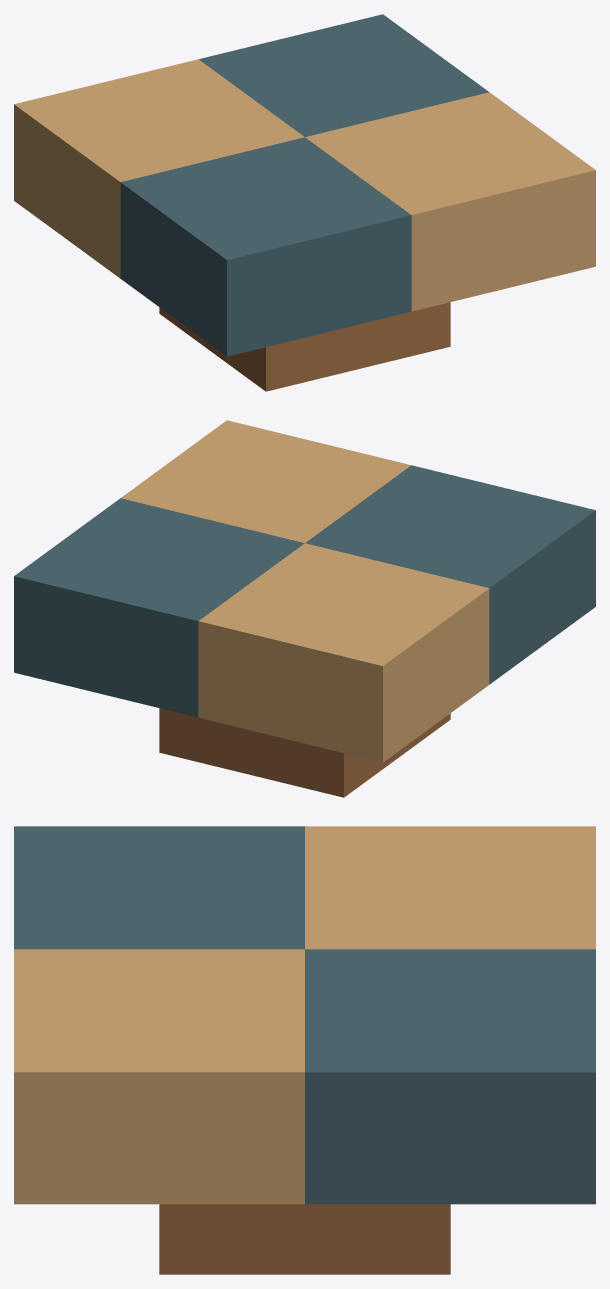
File: workshop.bridge.B.deck.palette.glb
3 views of the same model, one above another, from view 1: azimuth 30°, elevation 25°; view 2: azimuth 150°, elevation 25°; view 3: azimuth 270°, elevation 25° (orthographic). The views are drawn at different scales.
Parts seen in each view (by area): view 1: VW.walk.quarter.0.002, VW.walk.quarter.1.002, VW.walk.quarter.0.003, VW.walk.quarter.1.003, VW.inset.plinth.001; view 2: VW.walk.quarter.0.003, VW.walk.quarter.1.003, VW.walk.quarter.0.002, VW.walk.quarter.1.002, VW.inset.plinth.001; view 3: VW.walk.quarter.1.002, VW.walk.quarter.1.003, VW.walk.quarter.0.002, VW.walk.quarter.0.003, VW.inset.plinth.001.
Boxes of the visible parts, <box> form: VW.walk.quarter.0.002: <box>120,137,411,356</box>; VW.walk.quarter.1.002: <box>305,92,595,311</box>; VW.walk.quarter.0.003: <box>14,59,304,278</box>; VW.walk.quarter.1.003: <box>199,14,488,136</box>; VW.inset.plinth.001: <box>159,302,450,391</box>; VW.walk.quarter.0.003: <box>198,543,489,762</box>; VW.walk.quarter.1.003: <box>14,498,304,717</box>; VW.walk.quarter.0.002: <box>305,465,595,684</box>; VW.walk.quarter.1.002: <box>121,420,410,542</box>; VW.inset.plinth.001: <box>159,708,450,797</box>; VW.walk.quarter.1.002: <box>14,949,304,1204</box>; VW.walk.quarter.1.003: <box>305,949,595,1204</box>; VW.walk.quarter.0.002: <box>14,826,304,949</box>; VW.walk.quarter.0.003: <box>305,826,595,949</box>; VW.inset.plinth.001: <box>159,1204,450,1274</box>.
Bounding box in the file's own units: 0.5 × 0.25 × 0.5.
3 materials, 3 textured.
